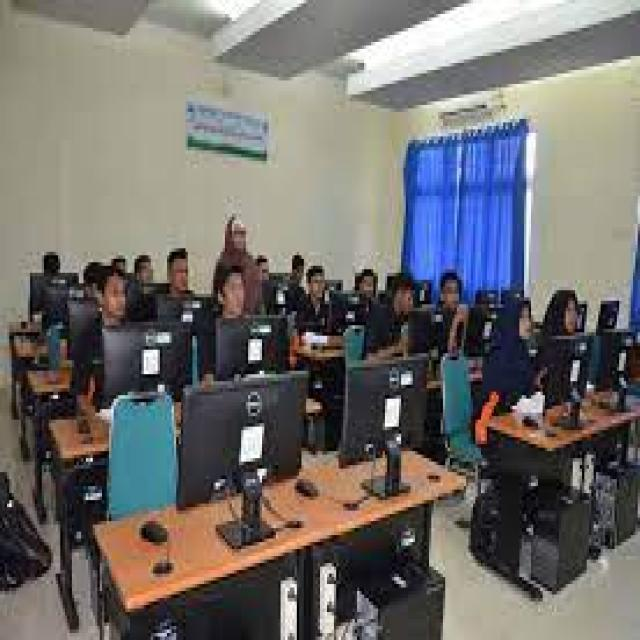komputer: (182, 372, 310, 560), (339, 353, 437, 506)
